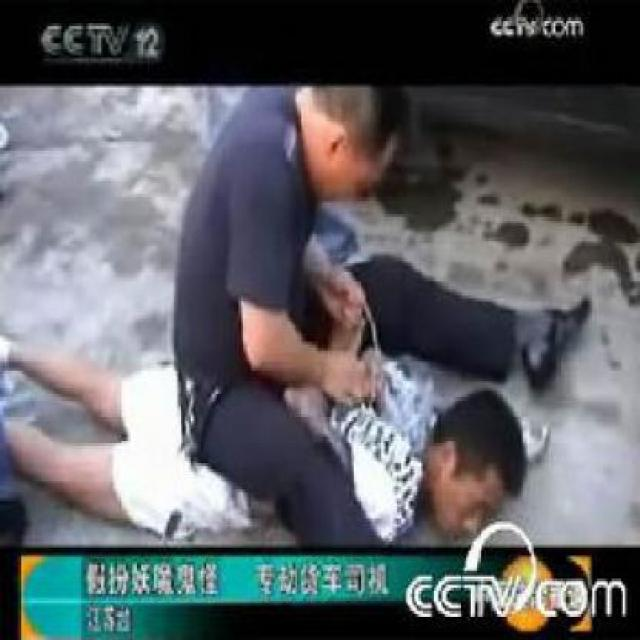fall: (0, 292, 569, 543)
